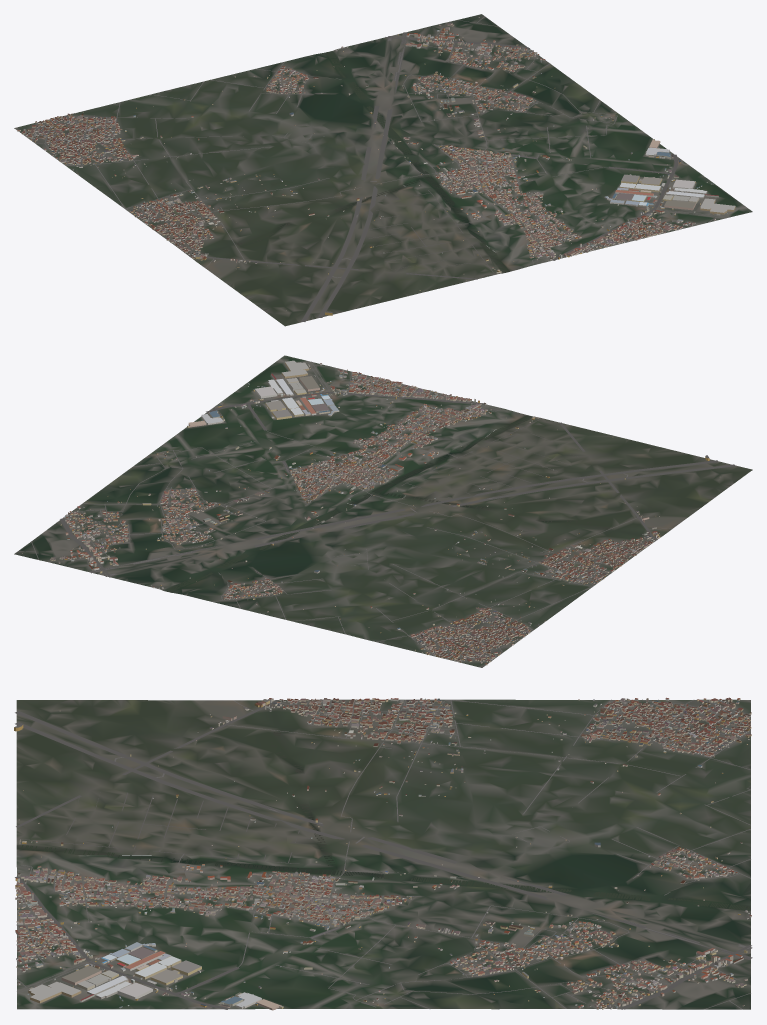
3 renders of one model, top to bottom at view 1: azimuth 30°, elevation 25°; view 2: azimuth 150°, elevation 25°; view 3: azimuth 270°, elevation 25°, orthographic. The views are drawn at different scales.
Parts seen in each view (by area): view 1: ground, buildings, roads, water; view 2: ground, buildings, roads, water; view 3: ground, buildings, roads, water.
Part boxes in pixels (box(x1,y1,x2,y2)): ground: box(14, 14, 752, 326); buildings: box(17, 16, 735, 315); roads: box(23, 16, 728, 321); water: box(236, 51, 508, 271); ground: box(14, 355, 752, 667); buildings: box(21, 360, 719, 665); roads: box(17, 361, 735, 661); water: box(165, 416, 609, 592); ground: box(16, 699, 750, 1009); buildings: box(14, 697, 751, 1010); roads: box(15, 699, 752, 1009); water: box(21, 732, 750, 910).
Size of the model in its own units: 2814 by 31.18 by 2822.
